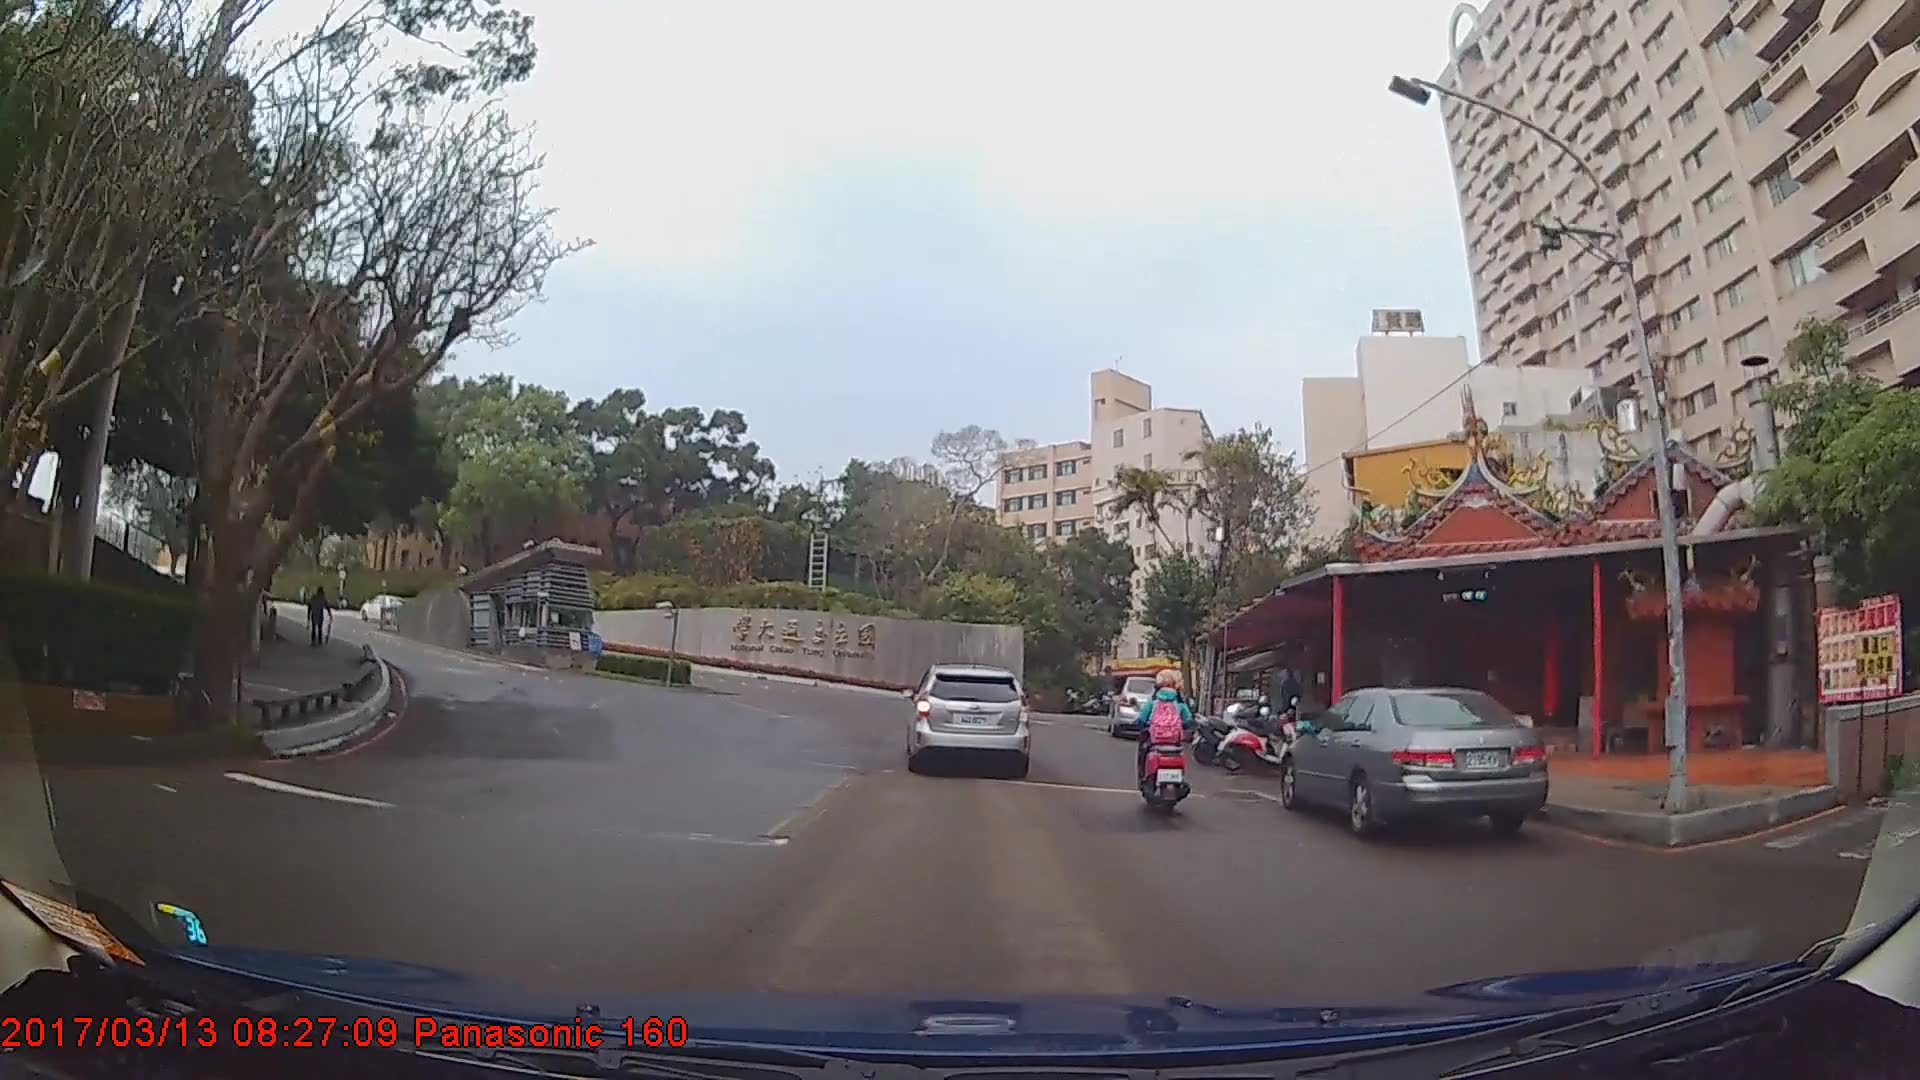pedestrian: (1279, 662, 1306, 733), (310, 589, 337, 649)
rider: (1133, 656, 1201, 812)
vehicle: (1281, 684, 1546, 834), (907, 658, 1029, 770), (1107, 674, 1179, 737), (358, 591, 411, 618)
